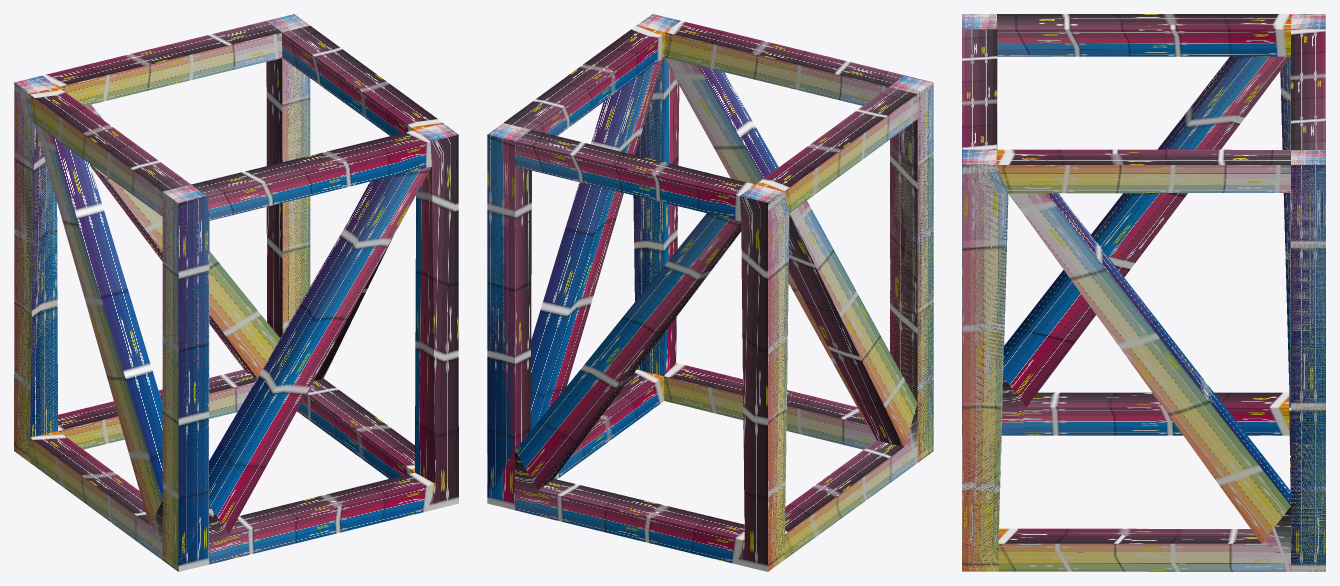
File: beamwallv2.fbx
3 renders of one model, left to right at view 1: azimuth 30°, elevation 25°; view 2: azimuth 150°, elevation 25°; view 3: azimuth 270°, elevation 25°, orthographic. The views are drawn at different scales.
Visible parts, largest first — view 1: BeamWall_low; view 2: BeamWall_low; view 3: BeamWall_low.
Part boxes in pixels (box(x1,y1,x2,y2)): BeamWall_low: box(14, 14, 458, 571); BeamWall_low: box(487, 14, 933, 571); BeamWall_low: box(962, 14, 1325, 571).
Bounding box in the file's own units: 149 × 187 × 152.
